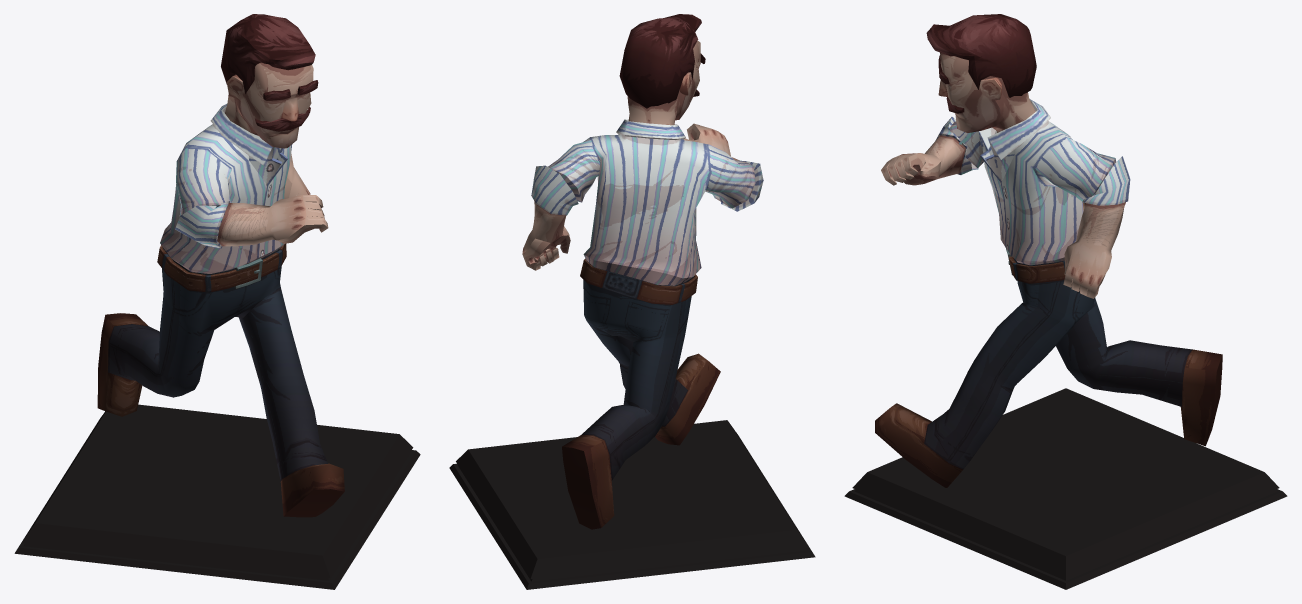
The model's file is 90sDadPose.fbx.
The picture shows the model from 3 angles, left to right: view 1: azimuth 30°, elevation 25°; view 2: azimuth 150°, elevation 25°; view 3: azimuth 270°, elevation 25°; orthographic projection. The views are drawn at different scales.
Visible parts, largest first — view 1: polySurface37; view 2: polySurface37; view 3: polySurface37.
Part boxes in pixels (x1,y1,x2,y2): polySurface37: [14, 14, 420, 589]; polySurface37: [449, 14, 815, 589]; polySurface37: [844, 14, 1287, 589].
Size of the model in its own units: 8.01 by 9.63 by 8.01.
